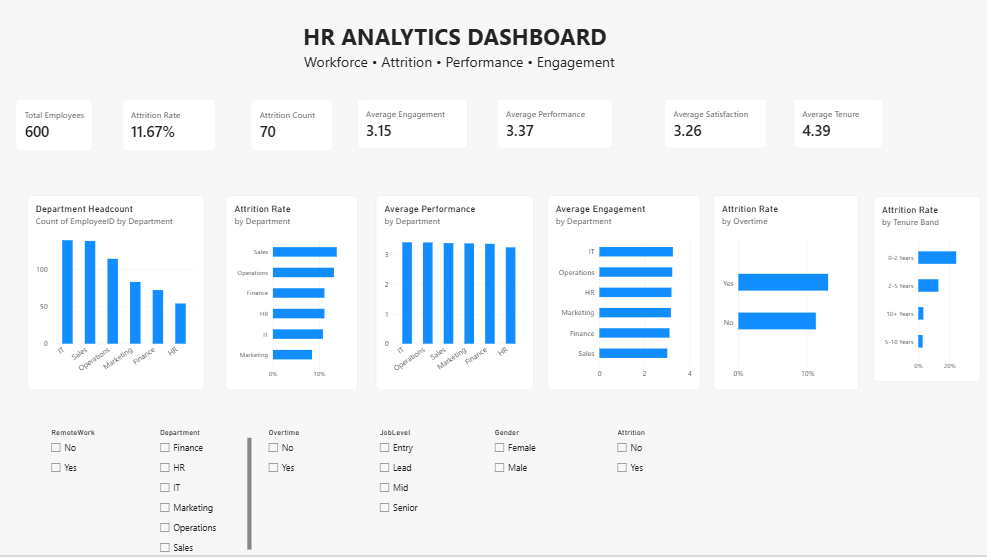

The page's visual inventory and layout, read from the dashboard file:
{"tool":"powerbi","page":{"name":"HR overview","canvas":[1920,1080],"ordinal":0},"visuals":[{"type":"textbox","box":[602.6,59.7,589.9,59.7],"z":0},{"type":"clusteredColumnChart","title":"Department Headcount","fields":{"Category":["Employee_Data.Department"],"Y":["CountNonNull(Employee_Data.EmployeeID)"]},"box":[76,392.7,338.4,371],"z":1000},{"type":"cardVisual","fields":{"Data":["Employee_Data.Total Employees"]},"box":[54.3,209.9,146.6,99.5],"z":2000},{"type":"cardVisual","fields":{"Data":["Employee_Data.Attrition Rate"]},"box":[257,209.9,179.2,99.5],"z":3000},{"type":"cardVisual","fields":{"Data":["Employee_Data.Average Engagement"]},"box":[705.8,209.9,211.7,94.1],"z":4000},{"type":"cardVisual","fields":{"Data":["Employee_Data.Attrition Count"]},"box":[501.3,209.9,157.4,99.5],"z":5000},{"type":"cardVisual","fields":{"Data":["Employee_Data.Average Performance"]},"box":[971.8,209.9,220.8,94.1],"z":6000},{"type":"cardVisual","fields":{"Data":["Employee_Data.Average Tenure"]},"box":[1534.6,209.9,171.9,94.1],"z":7000},{"type":"cardVisual","fields":{"Data":["Employee_Data.Average Satisfaction"]},"box":[1290.3,209.9,195.4,94.1],"z":8000},{"type":"barChart","fields":{"Category":["Employee_Data.Department"],"Y":["Employee_Data.Attrition Rate"]},"box":[454.2,392.7,251.5,371],"z":9000},{"type":"clusteredColumnChart","fields":{"Category":["Employee_Data.Department"],"Y":["Employee_Data.Average Performance"]},"box":[740.2,392.7,300.4,371],"z":10000},{"type":"barChart","fields":{"Category":["Employee_Data.Department"],"Y":["Employee_Data.Average Engagement"]},"box":[1065.9,392.7,293.2,371],"z":11000},{"type":"barChart","fields":{"Category":["Employee_Data.Tenure Band"],"Y":["Employee_Data.Attrition Rate"]},"box":[1688.4,394.5,204.5,352.9],"z":12000},{"type":"barChart","fields":{"Category":["Employee_Data.Overtime"],"Y":["Employee_Data.Attrition Rate"]},"box":[1382.6,392.7,276.9,371],"z":13000},{"type":"slicer","fields":{"Values":["Employee_Data.Department"]},"box":[322.1,836.1,182.8,244.3],"z":14000},{"type":"slicer","fields":{"Values":["Employee_Data.Overtime"]},"box":[528.4,836.1,150,150],"z":15000},{"type":"slicer","fields":{"Values":["Employee_Data.JobLevel"]},"box":[740.2,836.1,157.4,188.2],"z":16000},{"type":"slicer","fields":{"Values":["Employee_Data.Gender"]},"box":[959.1,836.1,162.9,139.3],"z":17000},{"type":"slicer","fields":{"Values":["Employee_Data.RemoteWork"]},"box":[114,836.1,175,150],"z":18000},{"type":"textbox","box":[1743,254,150,222],"z":19000},{"type":"textbox","box":[600.8,119.4,631.6,41.6],"z":20000},{"type":"slicer","fields":{"Values":["Employee_Data.Attrition"]},"box":[1192.6,836.1,121.2,150.2],"z":21000}]}

Visuals, with their boxes in screenshot pixels (x1, y1, x2, y2), scaled from the page's 1920x1080 canvas onto the 987x557 screenshot:
textbox: <box>310,31,613,62</box>
"Department Headcount" clusteredColumnChart: <box>39,203,213,394</box>
cardVisual - Employee_Data.Total Employees: <box>28,108,103,160</box>
cardVisual - Employee_Data.Attrition Rate: <box>132,108,224,160</box>
cardVisual - Employee_Data.Average Engagement: <box>363,108,472,157</box>
cardVisual - Employee_Data.Attrition Count: <box>258,108,339,160</box>
cardVisual - Employee_Data.Average Performance: <box>500,108,613,157</box>
cardVisual - Employee_Data.Average Tenure: <box>789,108,877,157</box>
cardVisual - Employee_Data.Average Satisfaction: <box>663,108,764,157</box>
barChart - Employee_Data.Department x Employee_Data.Attrition Rate: <box>233,203,363,394</box>
clusteredColumnChart - Employee_Data.Department x Employee_Data.Average Performance: <box>381,203,535,394</box>
barChart - Employee_Data.Department x Employee_Data.Average Engagement: <box>548,203,699,394</box>
barChart - Employee_Data.Tenure Band x Employee_Data.Attrition Rate: <box>868,203,973,385</box>
barChart - Employee_Data.Overtime x Employee_Data.Attrition Rate: <box>711,203,853,394</box>
slicer - Employee_Data.Department: <box>166,431,260,556</box>
slicer - Employee_Data.Overtime: <box>272,431,349,509</box>
slicer - Employee_Data.JobLevel: <box>381,431,461,528</box>
slicer - Employee_Data.Gender: <box>493,431,577,503</box>
slicer - Employee_Data.RemoteWork: <box>59,431,149,509</box>
textbox: <box>896,131,973,245</box>
textbox: <box>309,62,634,83</box>
slicer - Employee_Data.Attrition: <box>613,431,675,509</box>
